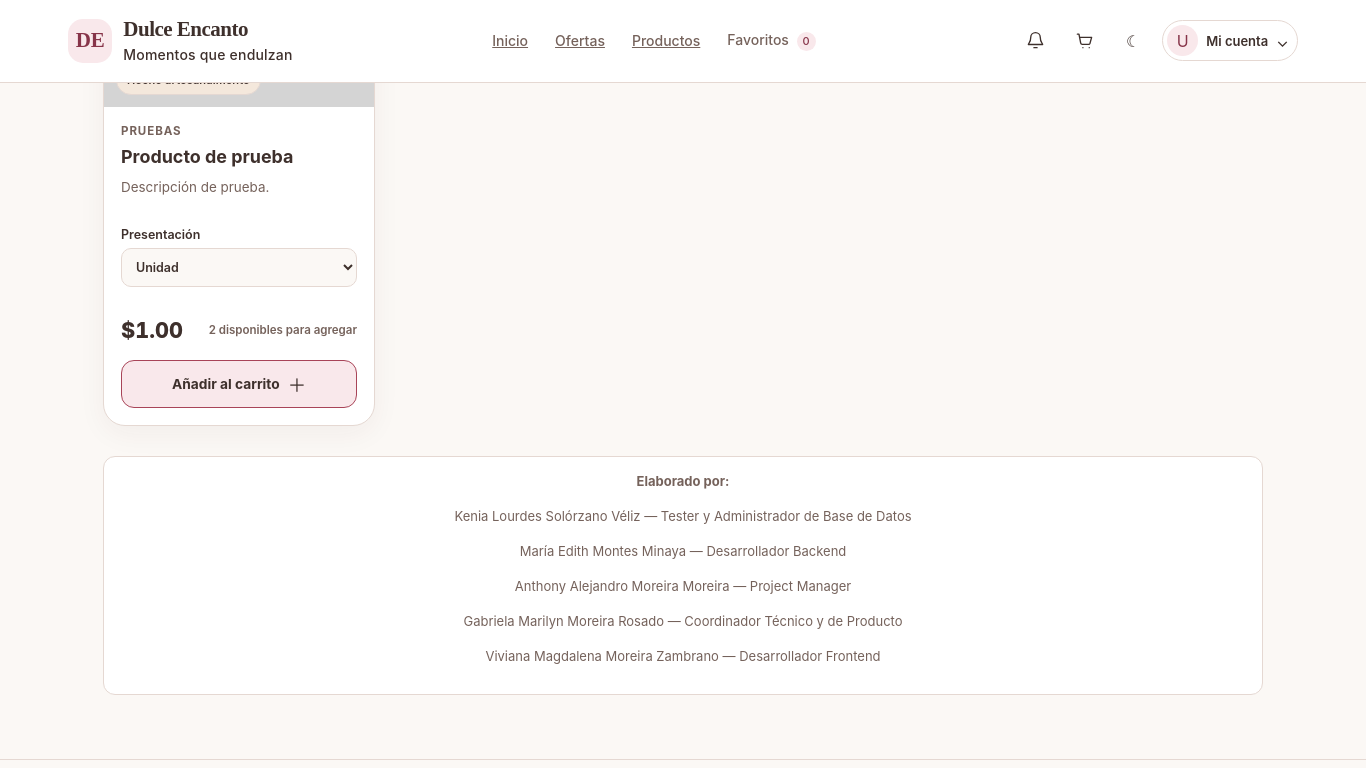
it: Casos límite del catálogo › permite cerrar el aviso después de añadir un producto
(page scrolled)
Click the button with aria-label "Agregar Producto de prueba al carrito".
click(239, 384)  # box [121, 360, 357, 408]
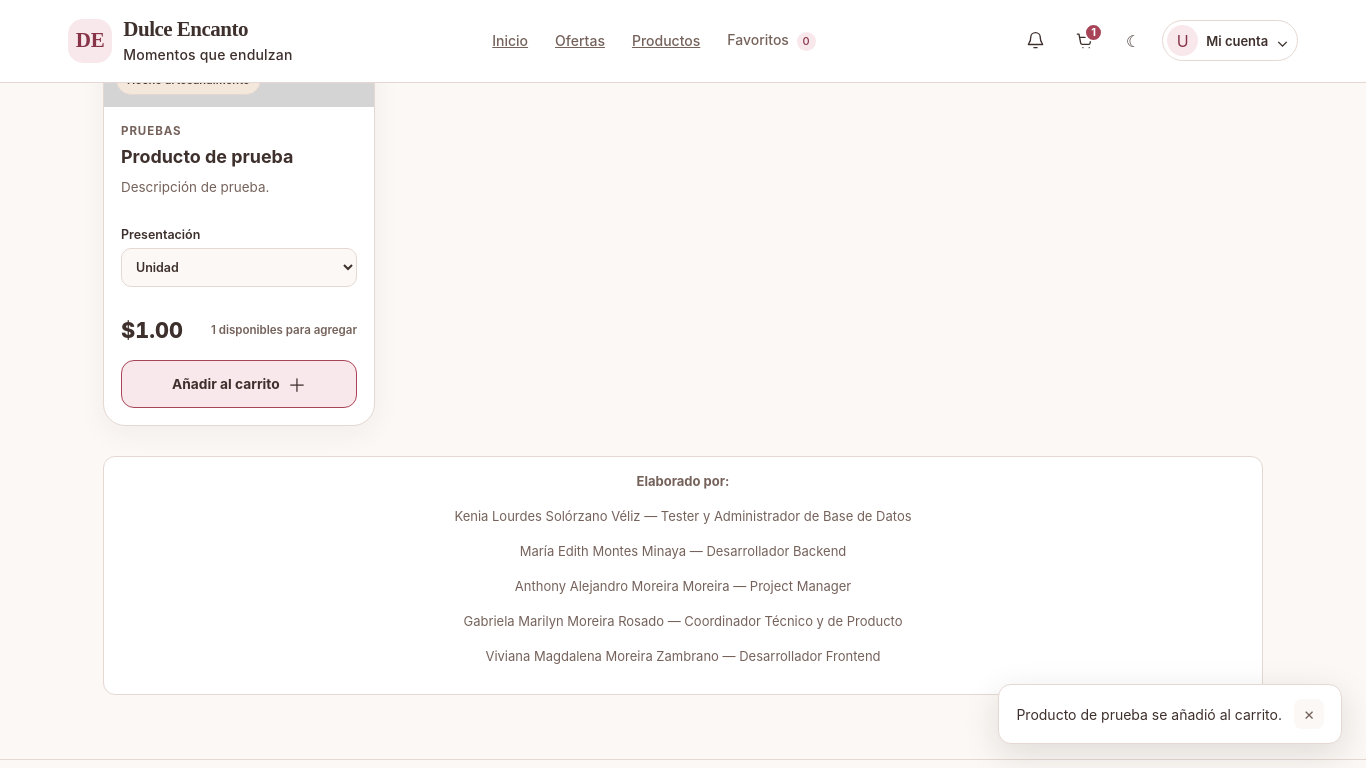
Expected: the text "Producto de prueba se añadió al carrito." is shown, [1016, 704, 1282, 724]
Click the button named "Cerrar aviso".
click(1309, 714)  # box [1294, 699, 1324, 729]
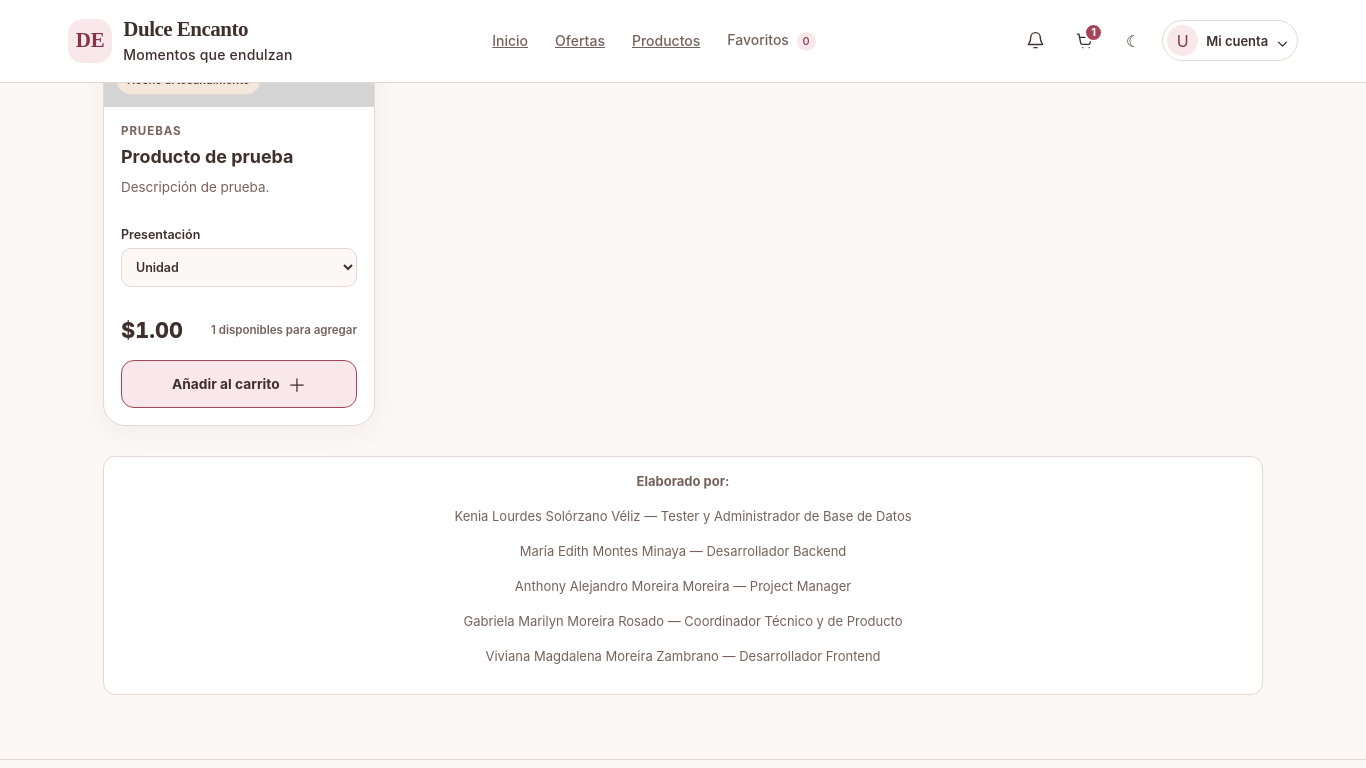
Expected: the text "Producto de prueba se añadió al carrito." is gone
